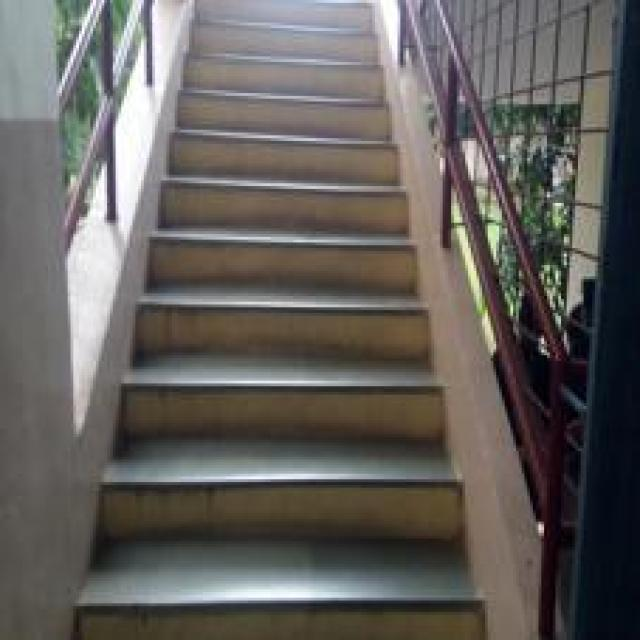upstair: (80, 289, 480, 616)
